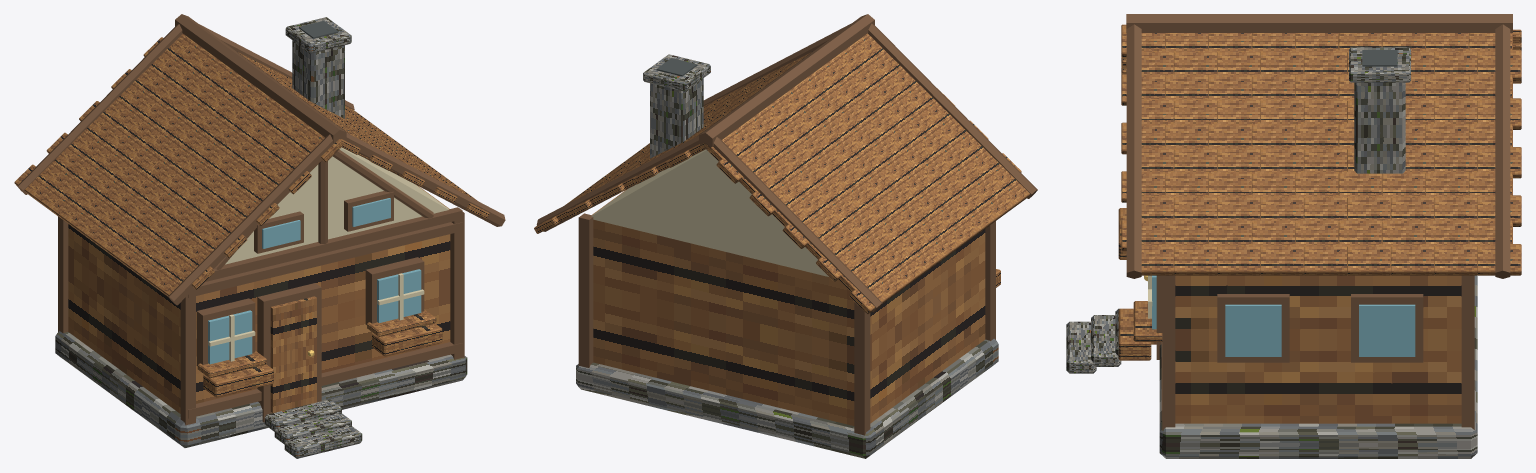
File: cottage_without_plants.glb
3 views of the same model, side by side, from view 1: azimuth 30°, elevation 25°; view 2: azimuth 150°, elevation 25°; view 3: azimuth 270°, elevation 25° (orthographic). The views are drawn at different scales.
Visible parts, largest first — view 1: cottage_without_plants_roof, cottage_without_plants_beam, cottage_without_plants_timber, cottage_without_plants_stone, cottage_without_plants_plaster, cottage_without_plants_glass; view 2: cottage_without_plants_timber, cottage_without_plants_roof, cottage_without_plants_stone, cottage_without_plants_beam, cottage_without_plants_plaster; view 3: cottage_without_plants_roof, cottage_without_plants_timber, cottage_without_plants_beam, cottage_without_plants_stone, cottage_without_plants_glass, cottage_without_plants_iron.
Part boxes in pixels (left/top/right/bottom): cottage_without_plants_roof: left=14, top=34, right=489, bottom=296; cottage_without_plants_beam: left=17, top=14, right=505, bottom=425; cottage_without_plants_timber: left=68, top=185, right=450, bottom=413; cottage_without_plants_stone: left=55, top=17, right=467, bottom=458; cottage_without_plants_plaster: left=208, top=147, right=448, bottom=361; cottage_without_plants_glass: left=208, top=198, right=421, bottom=364; cottage_without_plants_timber: left=592, top=189, right=1000, bottom=425; cottage_without_plants_roof: left=534, top=33, right=1029, bottom=314; cottage_without_plants_stone: left=576, top=54, right=998, bottom=458; cottage_without_plants_beam: left=536, top=14, right=1037, bottom=435; cottage_without_plants_plaster: left=591, top=149, right=828, bottom=276; cottage_without_plants_roof: left=1121, top=24, right=1521, bottom=275; cottage_without_plants_timber: left=1118, top=208, right=1461, bottom=423; cottage_without_plants_beam: left=1126, top=14, right=1512, bottom=429; cottage_without_plants_stone: left=1066, top=47, right=1477, bottom=458; cottage_without_plants_glass: left=1152, top=275, right=1415, bottom=356; cottage_without_plants_iron: left=1362, top=50, right=1397, bottom=66.
Bounding box in the file's own units: 6.54 × 5.61 × 6.3.
Materials: 8 (3 with a texture image).
